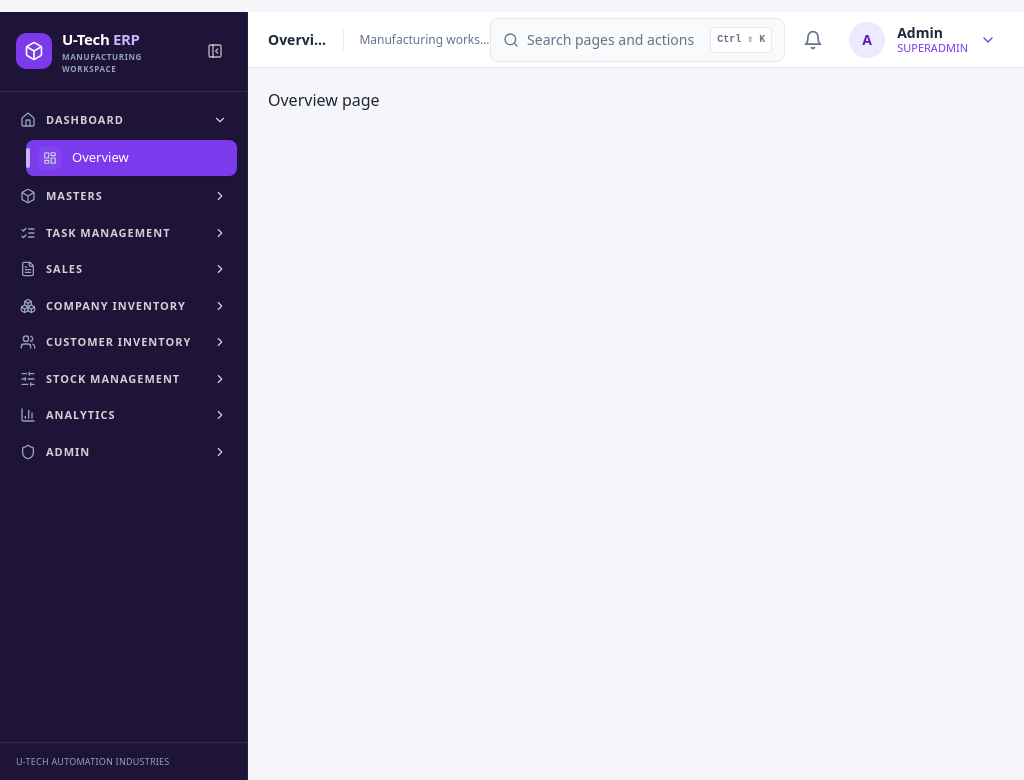
sidebar collapse/expand › section headers toggle their submenu without navigating
Click the button "Masters": (124, 196) [10,180,237,212]
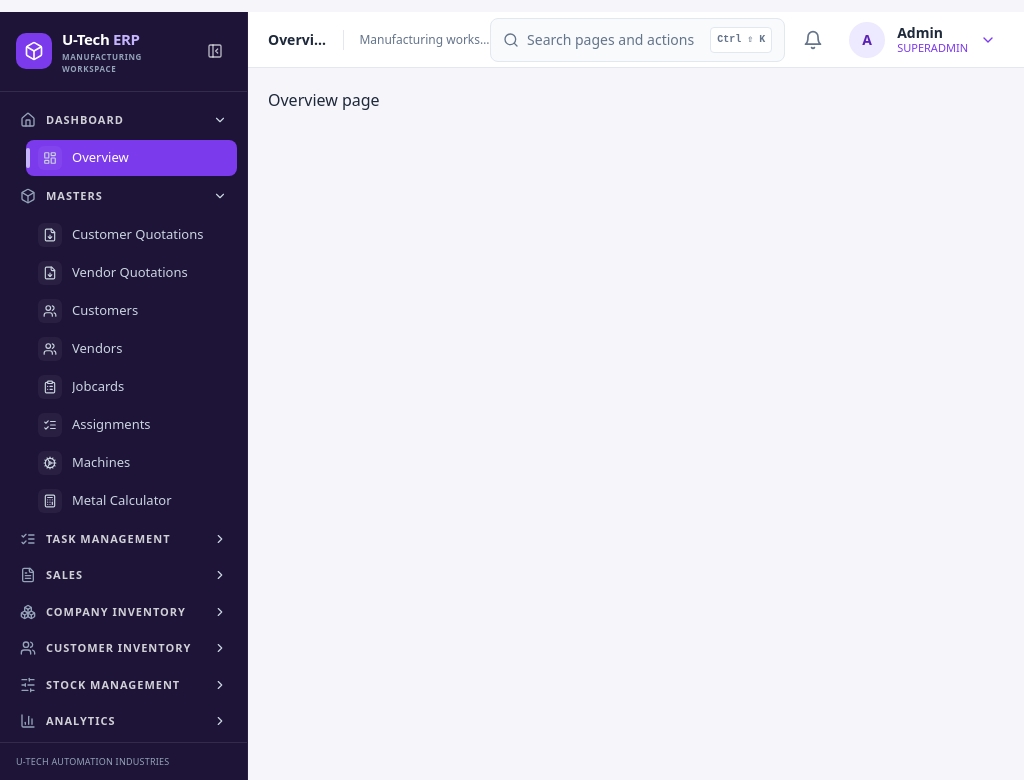
Result: the button "Masters" is expanded at [10,180,237,212]
Result: the link "Machines" is shown at [38,450,130,474]
